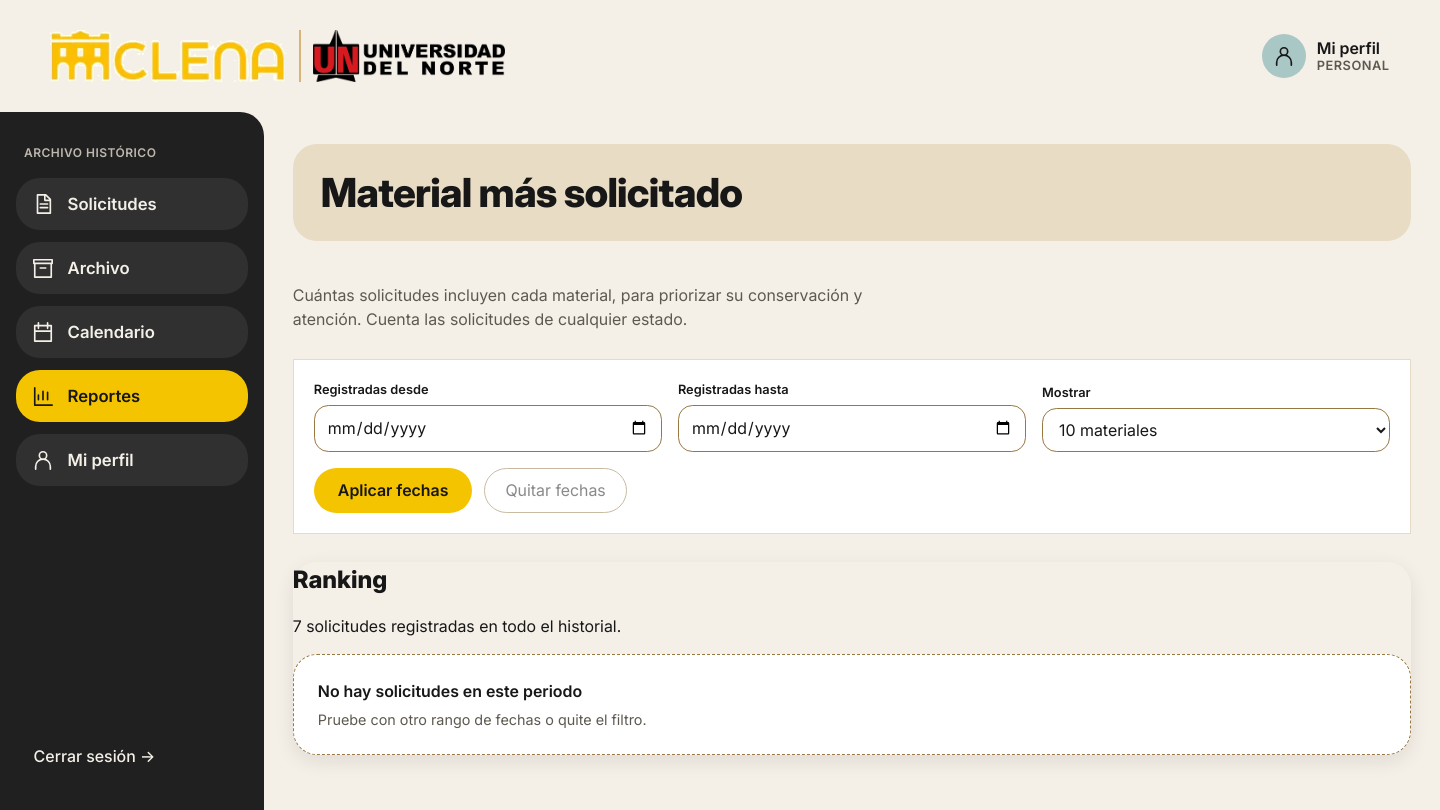
Test case: MostRequestedMaterialsPage (HU-26) › does not ask the server for a start after the end
Expected: the text "No hay solicitudes en este periodo" is shown, [318, 681, 582, 701]
Type "2026-12-01" into the date field labelled "Registradas desde" at [488, 428], box [314, 405, 662, 452]
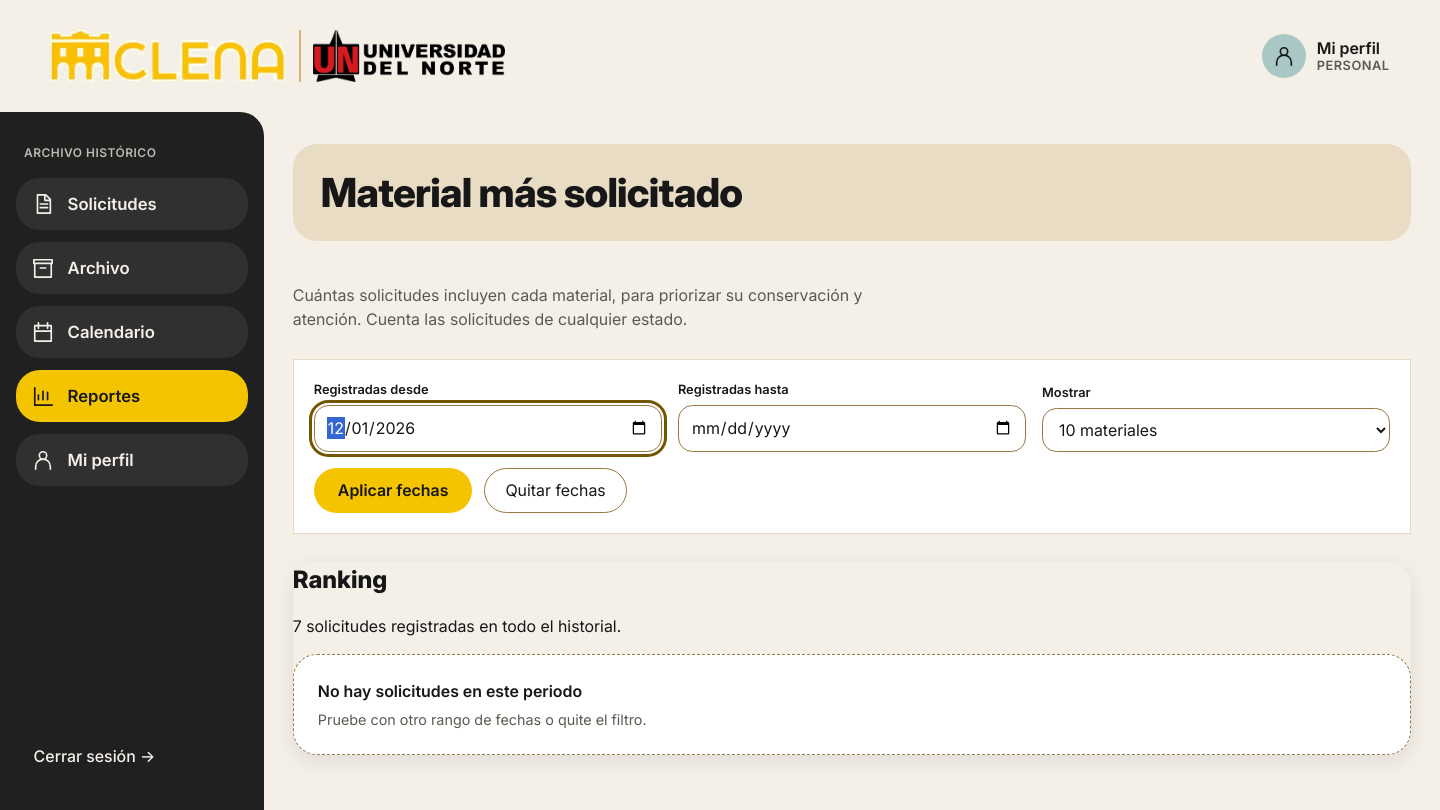
Type "2026-11-01" into the date field labelled "Registradas hasta" at [852, 428], box [678, 405, 1026, 452]
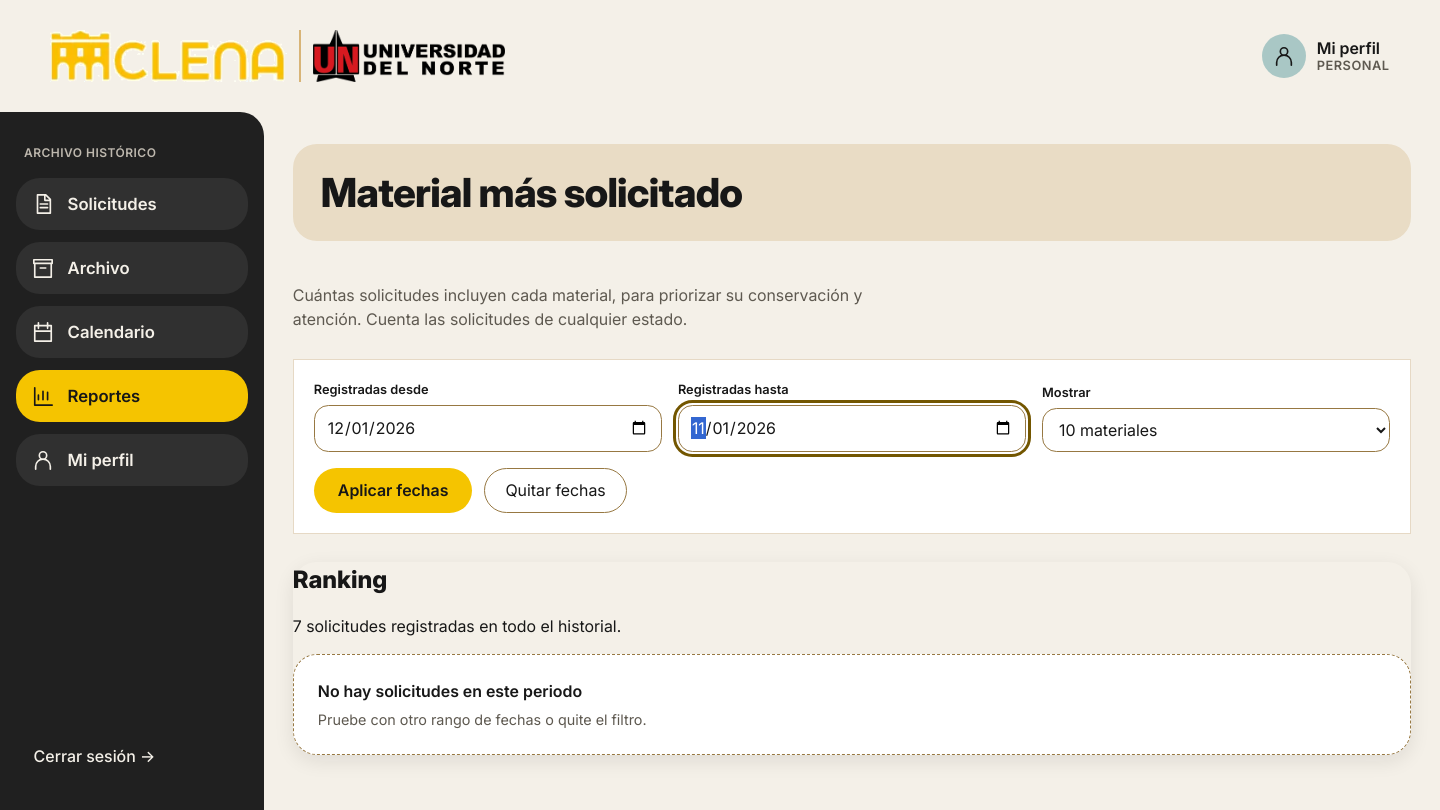
Click the button "Aplicar fechas" at [393, 490], box [314, 468, 472, 513]
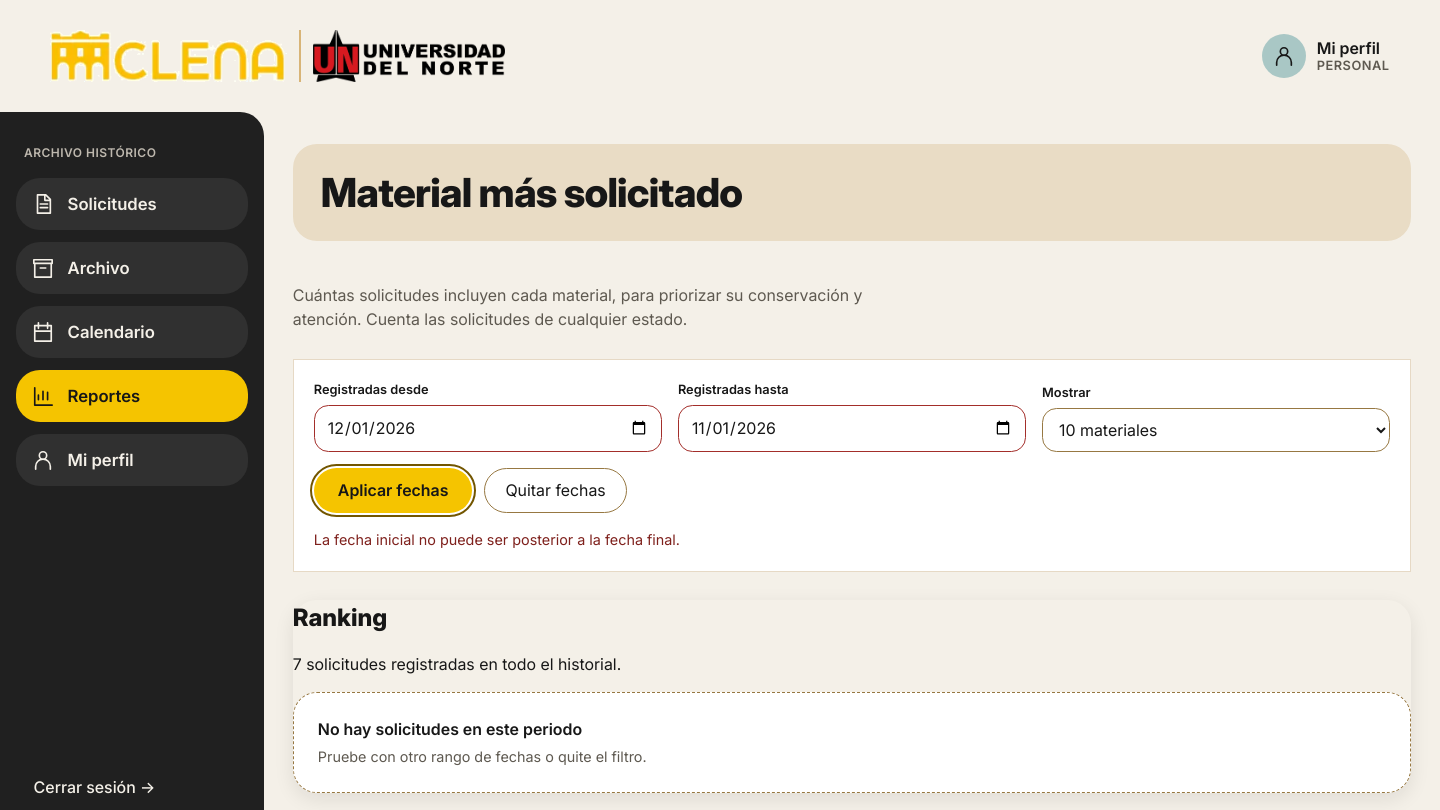
Result: the message reads "La fecha inicial no puede ser posterior a la fecha final." at [314, 531, 680, 548]
